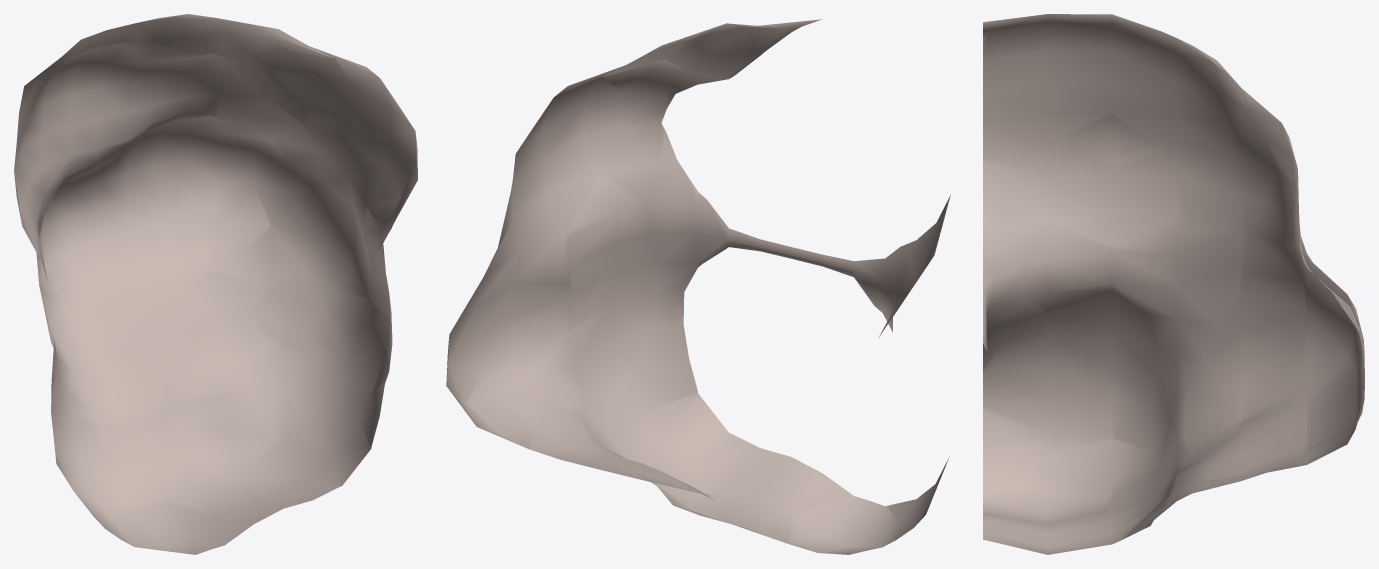
The model's file is tracking_chain_iPSC02_Chain1_T1_W9.glb.
3 renders of one model, left to right at view 1: azimuth 30°, elevation 25°; view 2: azimuth 150°, elevation 25°; view 3: azimuth 270°, elevation 25°, orthographic. The views are drawn at different scales.
Parts seen in each view (by area): view 1: world; view 2: world; view 3: world.
Boxes of the visible parts, x1,y1,x2,y2 form: world: [14, 14, 417, 554]; world: [446, 19, 950, 554]; world: [983, 14, 1364, 554].
Size of the model in its own units: 1.93 by 2.46 by 1.77.
